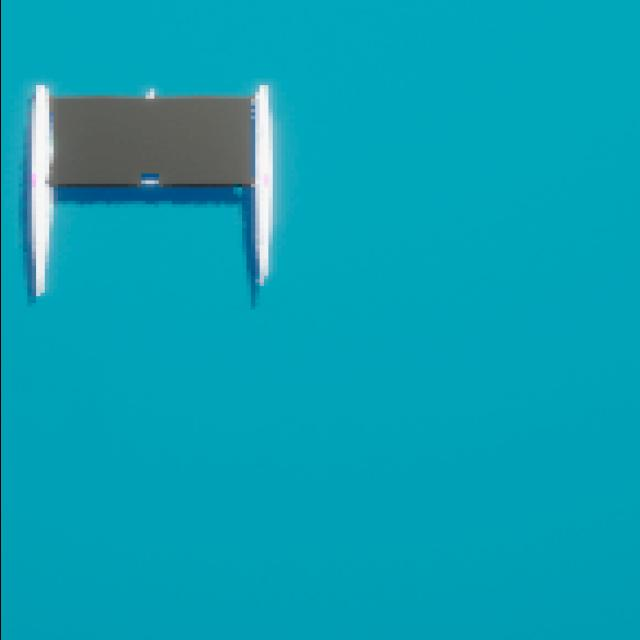boat: (12, 80, 280, 298)
drone: (51, 98, 251, 185)
